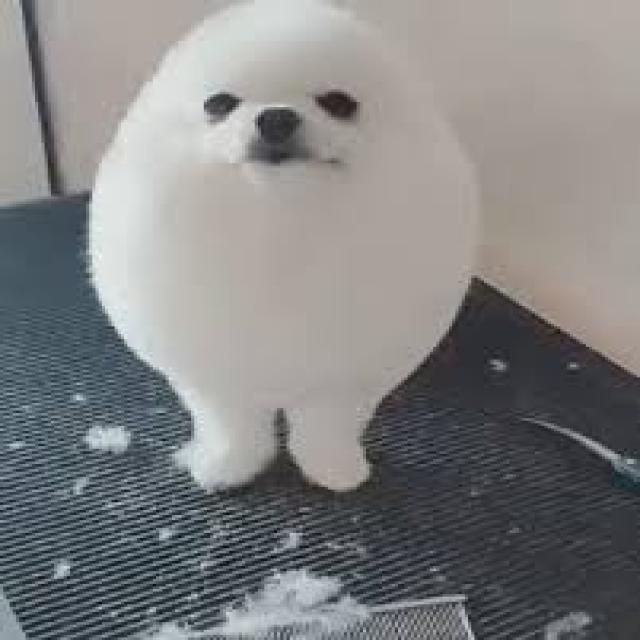dog: (77, 0, 495, 502)
